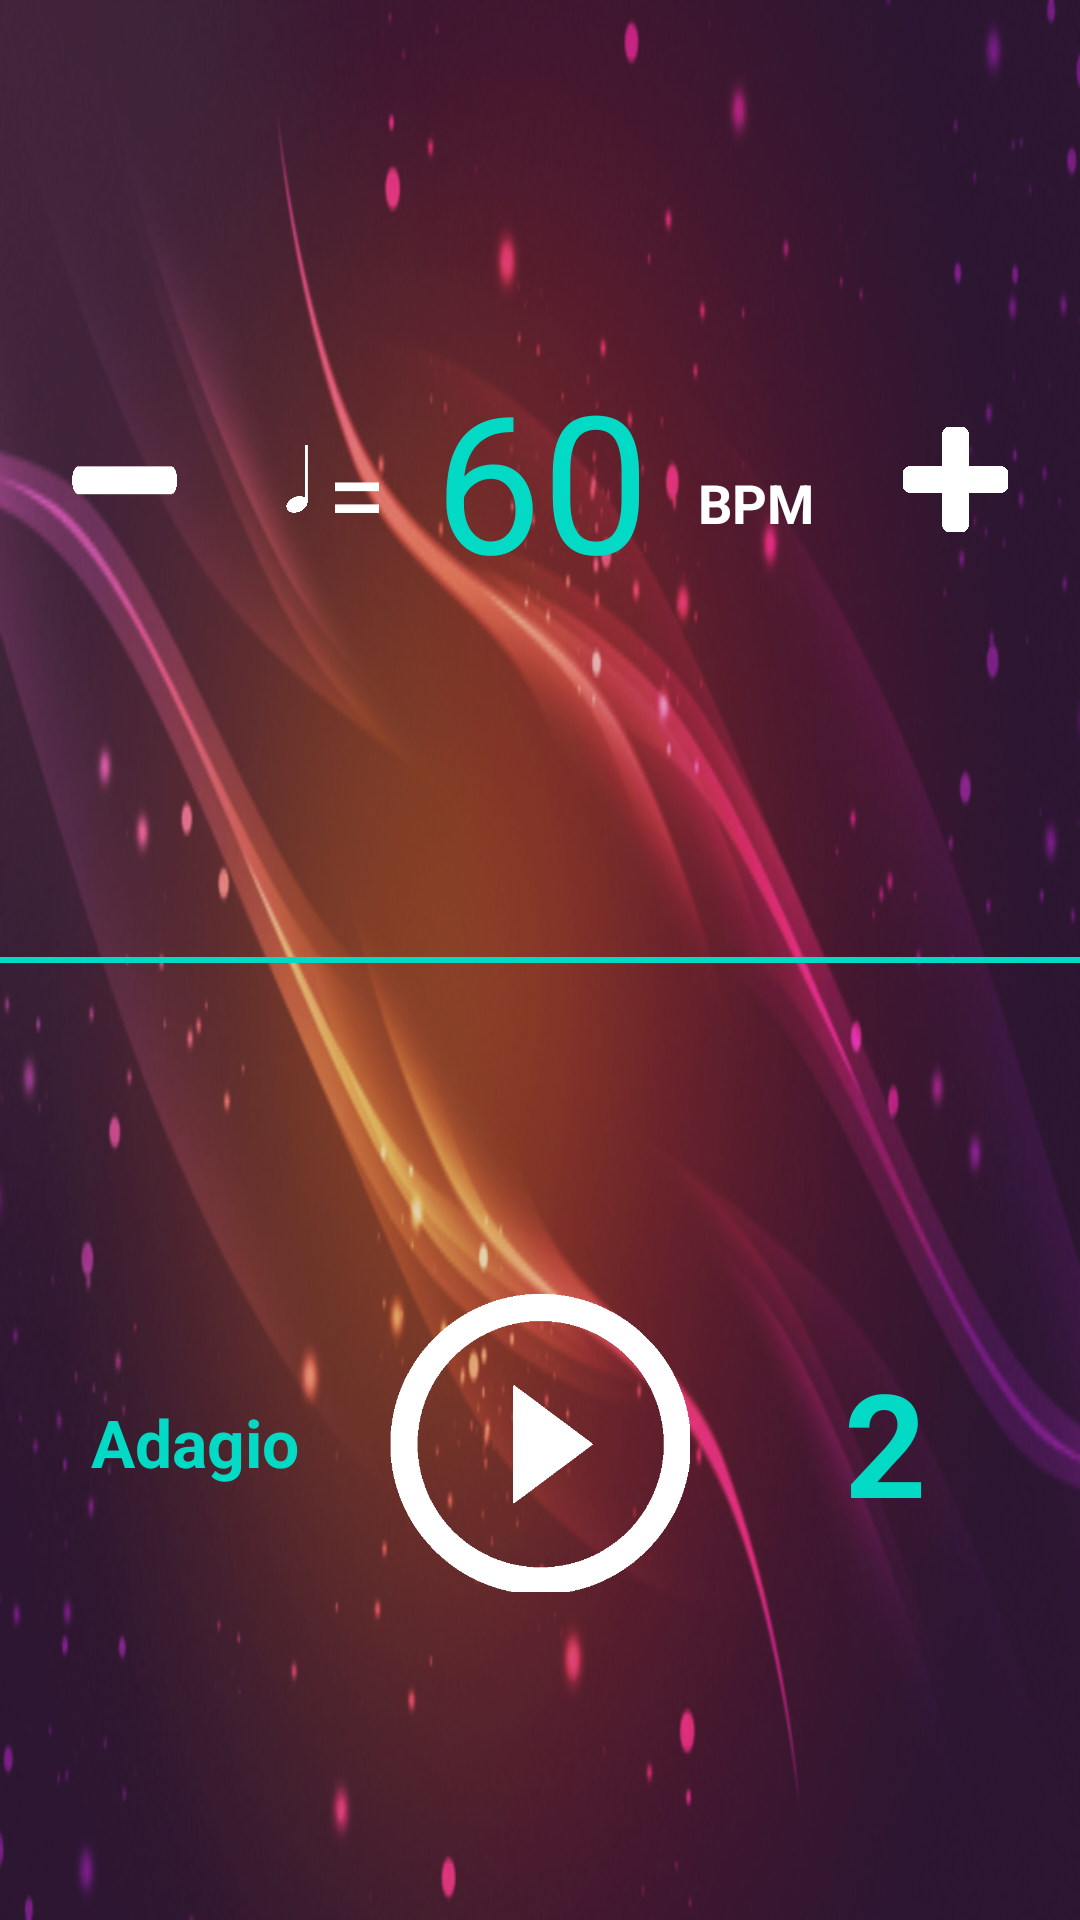

Where icons sit on this 1080 × 1920 app screen, as (x1, y1, x2, y2):
increase tempo: (903, 427, 1008, 532)
quarter note: (286, 445, 308, 513)
